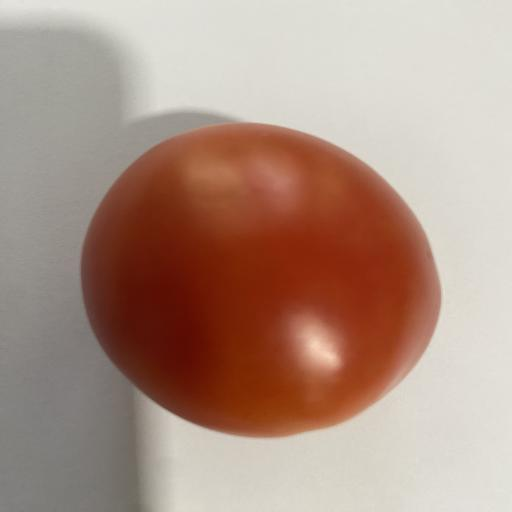ripe: (81, 123, 440, 437)
